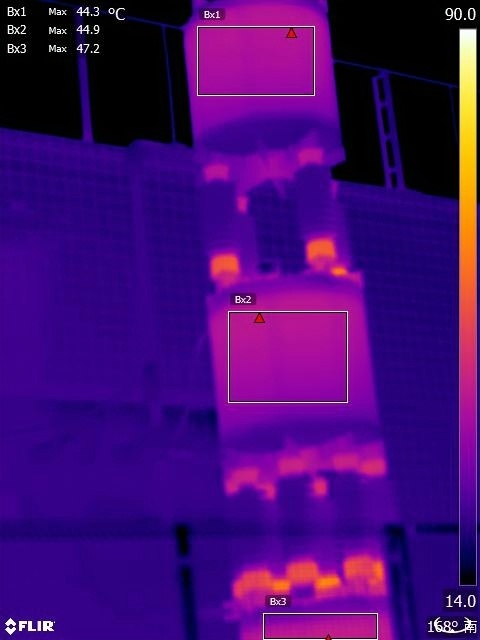capacitor: (187, 261, 398, 457), (170, 1, 364, 148), (218, 594, 407, 640)
post insulator: (222, 471, 281, 608), (335, 444, 388, 591), (273, 470, 325, 594), (294, 136, 335, 269), (199, 163, 238, 276)
